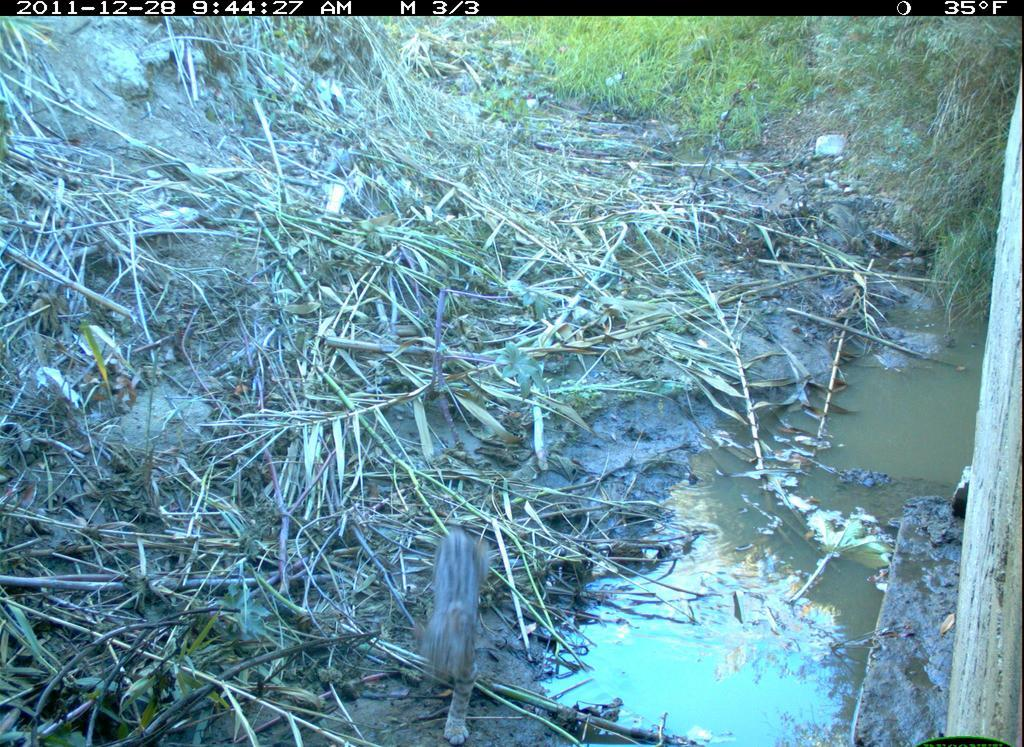bobcat: (420, 505, 524, 743)
